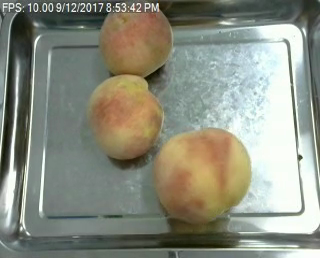Peach: (154, 127, 252, 225), (88, 74, 165, 161), (99, 2, 174, 78)
